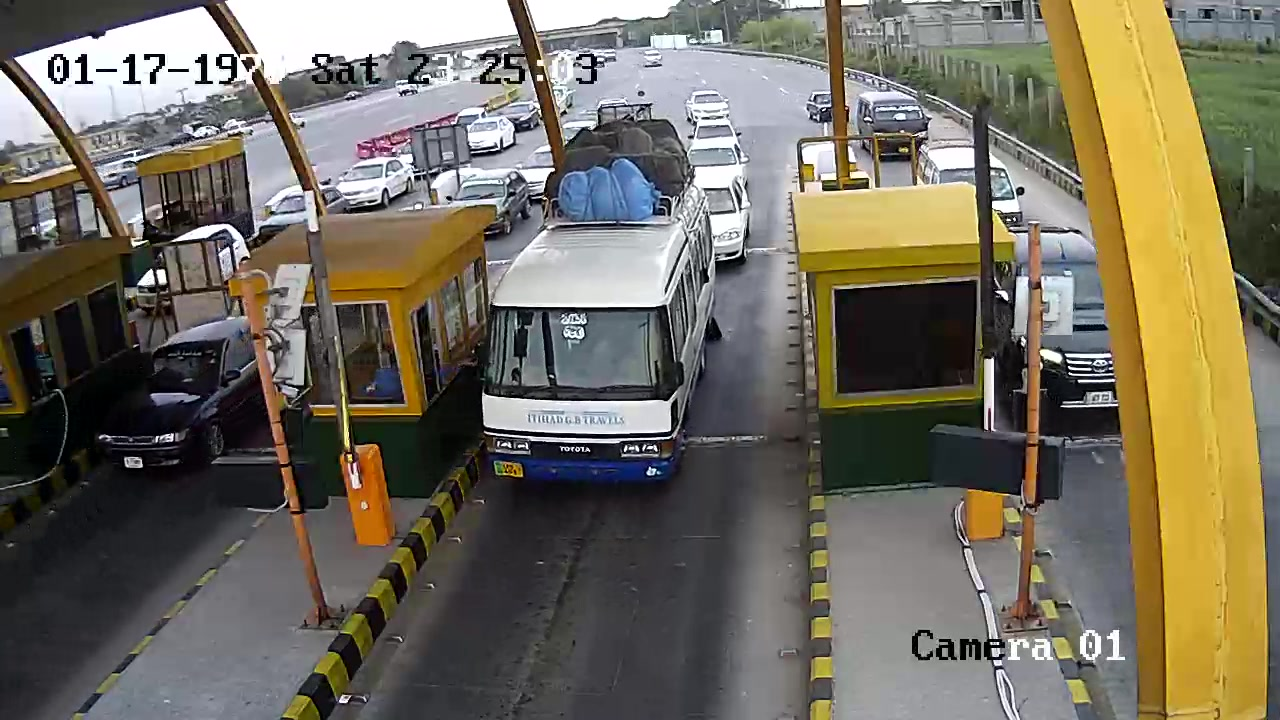F3: (481, 115, 720, 496)
